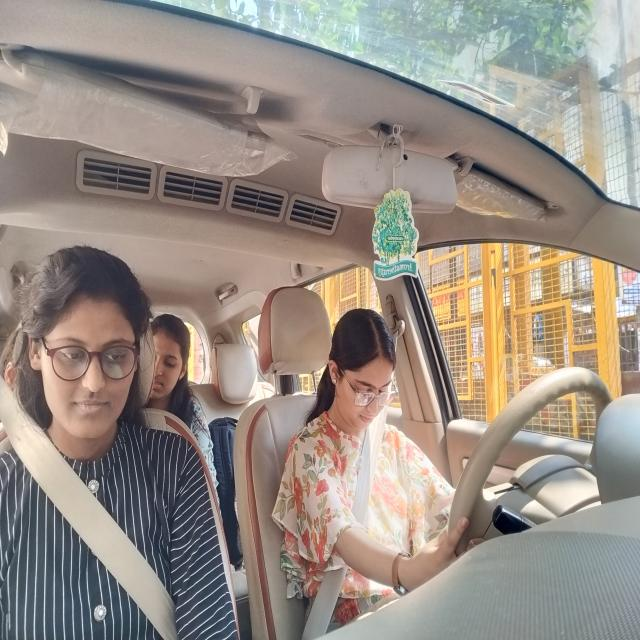drowsy: (327, 302, 399, 432)
person: (20, 248, 148, 448), (153, 301, 195, 403)
